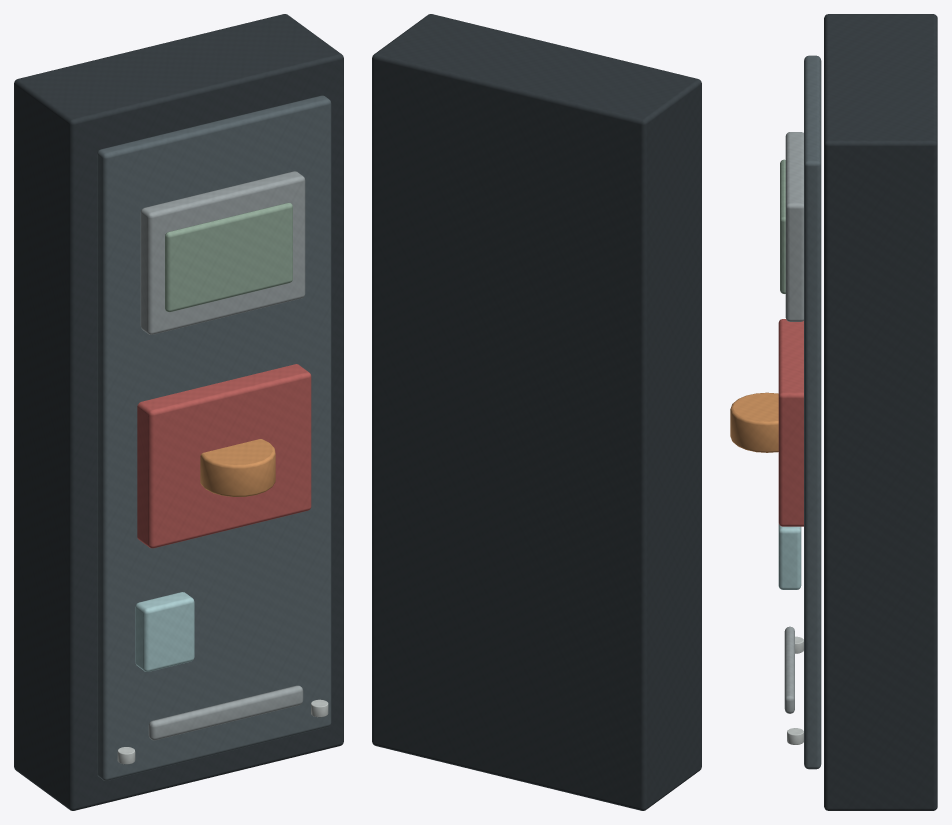
Rendered from BlastDoorControl.fbx.
The picture shows the model from 3 angles, left to right: view 1: azimuth 30°, elevation 25°; view 2: azimuth 150°, elevation 25°; view 3: azimuth 270°, elevation 25°; orthographic projection. The views are drawn at different scales.
Visible parts, largest first — view 1: BlastDoorControl_Mesh; view 2: BlastDoorControl_Mesh; view 3: BlastDoorControl_Mesh.
Boxes of the visible parts, x1,y1,x2,y2 form: BlastDoorControl_Mesh: [14, 14, 343, 810]; BlastDoorControl_Mesh: [372, 14, 701, 810]; BlastDoorControl_Mesh: [730, 14, 937, 810].
Size of the model in its own units: 54 by 130 by 36.5.
8 materials, 8 textured.
